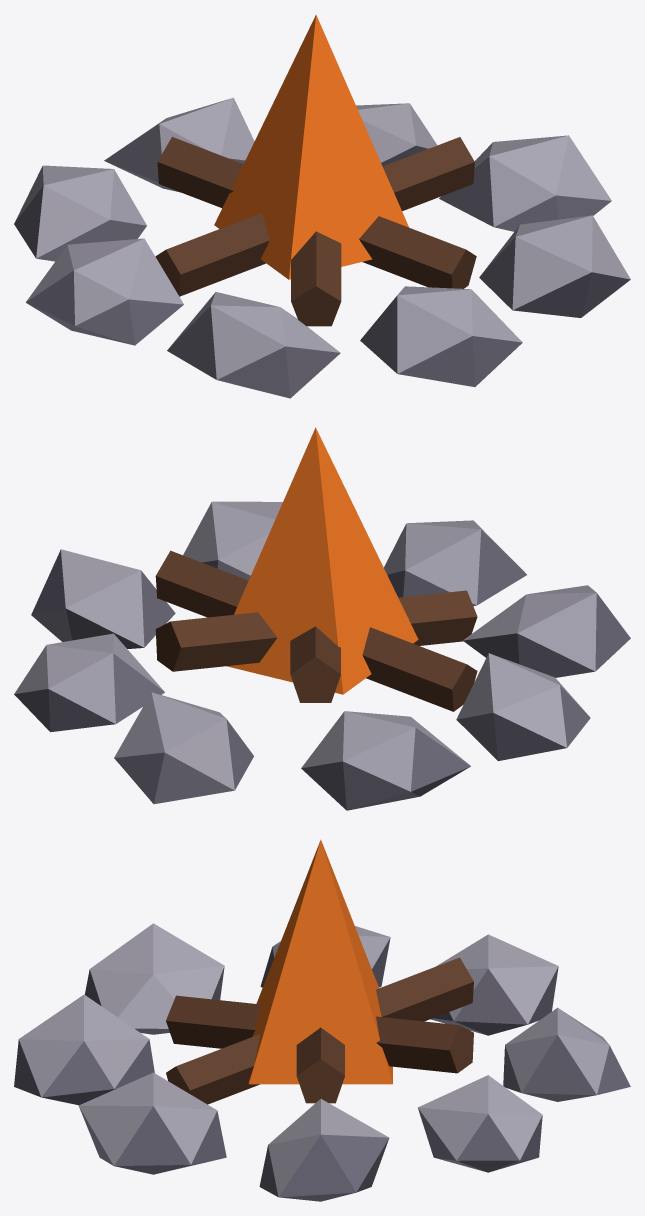
The model's file is CA_Fogata.obj.
3 renders of one model, top to bottom at view 1: azimuth 30°, elevation 25°; view 2: azimuth 150°, elevation 25°; view 3: azimuth 270°, elevation 25°, orthographic. The views are drawn at different scales.
Parts seen in each view (by area): view 1: CA_Fogata; view 2: CA_Fogata; view 3: CA_Fogata.
Part boxes in pixels (x1,y1,x2,y2): CA_Fogata: (14, 14, 630, 398); CA_Fogata: (14, 427, 630, 810); CA_Fogata: (14, 839, 630, 1201).
Bounding box in the file's own units: 1.66 × 0.75 × 1.69.
